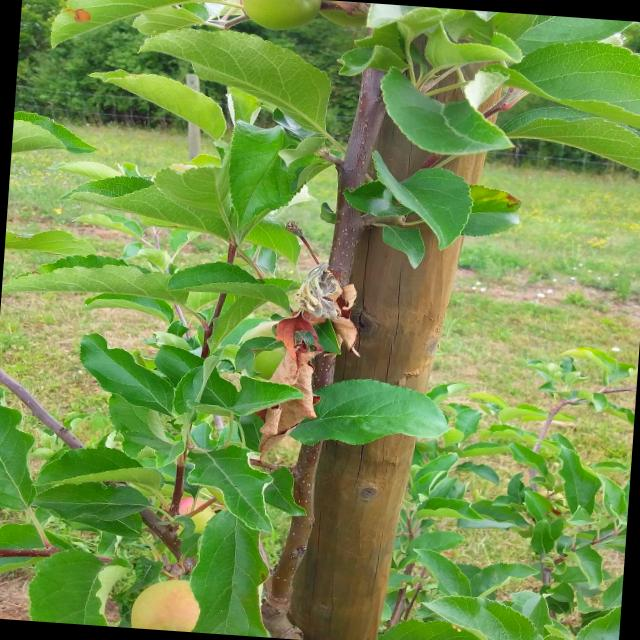-FireBlight-: (266, 284, 363, 430)
